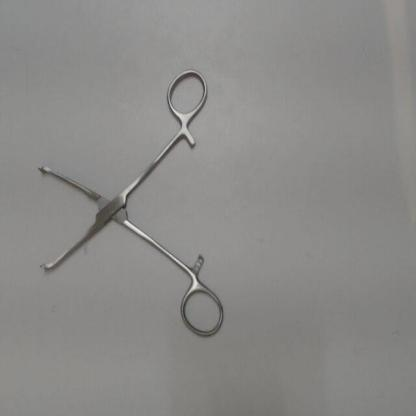Allis Tissue Forceps: (29, 60, 237, 346)
